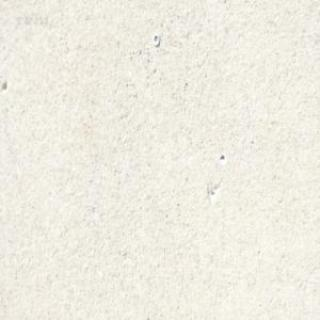Washertrack_idkeyframe: (152, 32, 158, 46)
